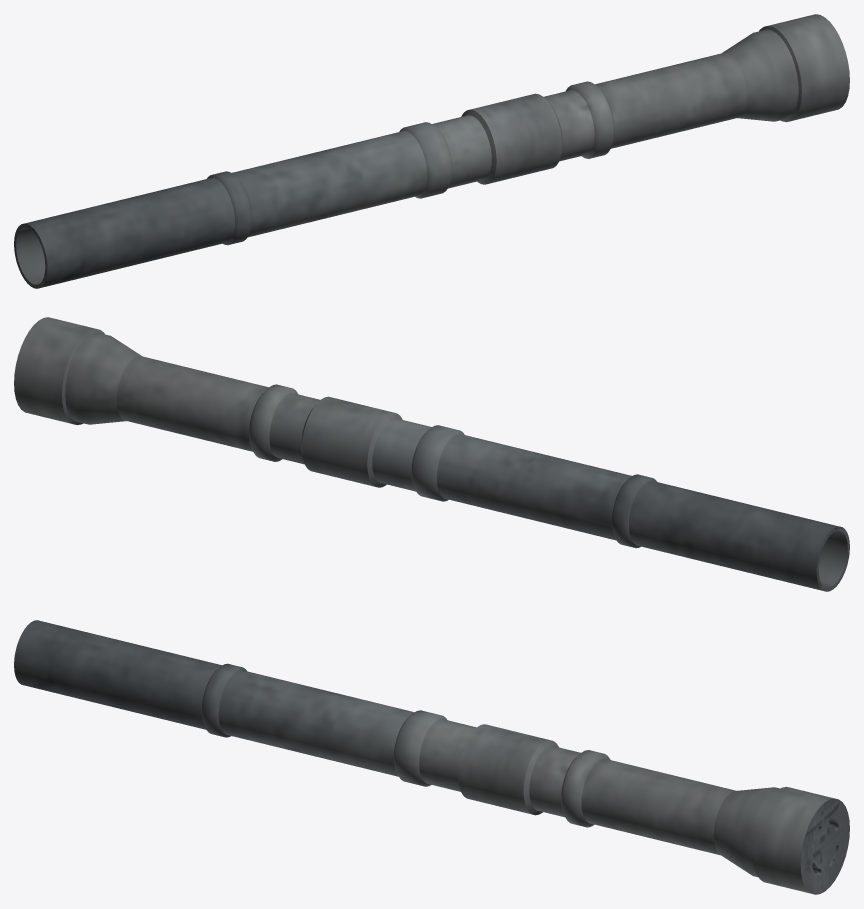
File: 90mmL34_recoilless.obj
3 views of the same model, one above another, from view 1: azimuth 30°, elevation 25°; view 2: azimuth 150°, elevation 25°; view 3: azimuth 330°, elevation 25° (orthographic).
Parts seen in each view (by area): view 1: 105mmL31recoilless; view 2: 105mmL31recoilless; view 3: 105mmL31recoilless.
Boxes of the visible parts, x1,y1,x2,y2 form: 105mmL31recoilless: [14, 14, 849, 288]; 105mmL31recoilless: [14, 317, 849, 591]; 105mmL31recoilless: [14, 620, 849, 894].
Size of the model in its own units: 3.3 by 0.3542 by 0.3542.
